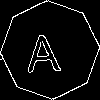A: (25, 25, 61, 73)
